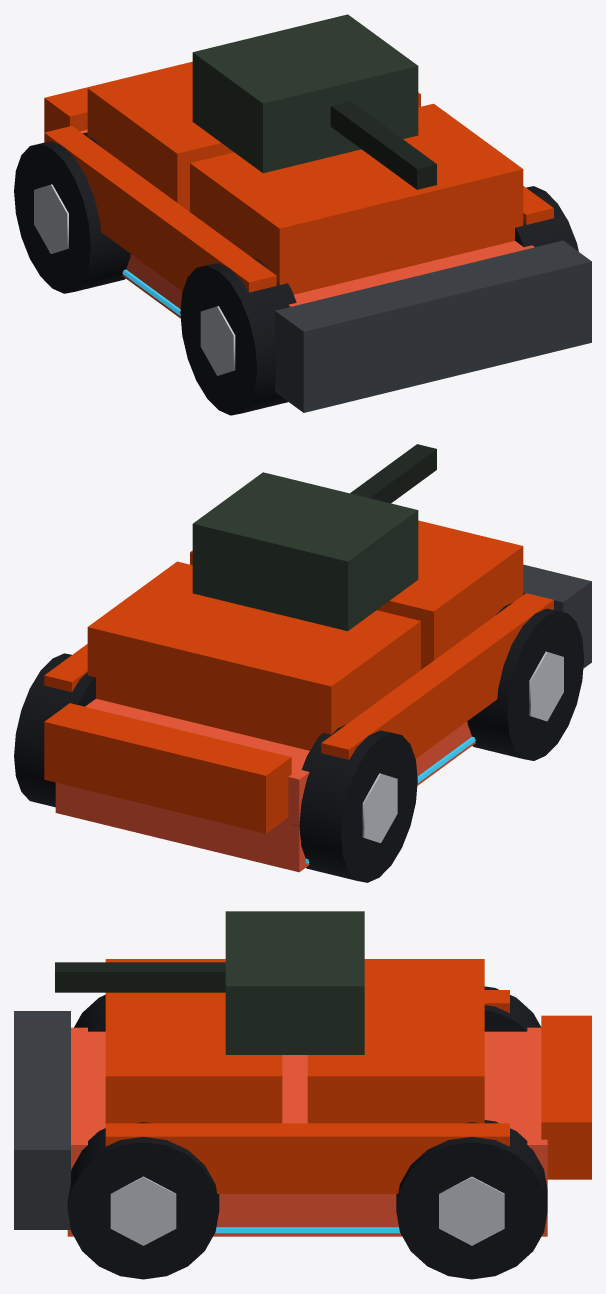
The model's file is bot_tank.glb.
3 renders of one model, top to bottom at view 1: azimuth 30°, elevation 25°; view 2: azimuth 150°, elevation 25°; view 3: azimuth 270°, elevation 25°, orthographic.
Visible parts, largest first — view 1: bot_tank, object 2; view 2: bot_tank, object 2; view 3: bot_tank, object 2.
Boxes of the visible parts, x1,y1,x2,y2 form: bot_tank: [14, 14, 591, 415]; object 2: [80, 129, 534, 318]; bot_tank: [14, 444, 591, 882]; object 2: [55, 699, 475, 872]; bot_tank: [14, 911, 591, 1279]; object 2: [67, 1027, 547, 1236].
Bounding box in the file's own units: 2.98 × 2.2 × 4.57.
2 materials, 2 textured.
